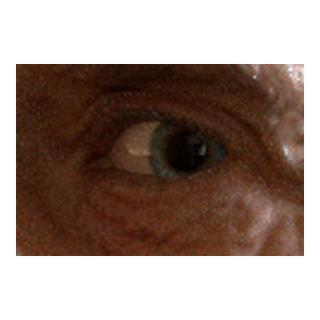pupil: (167, 132, 206, 171)
